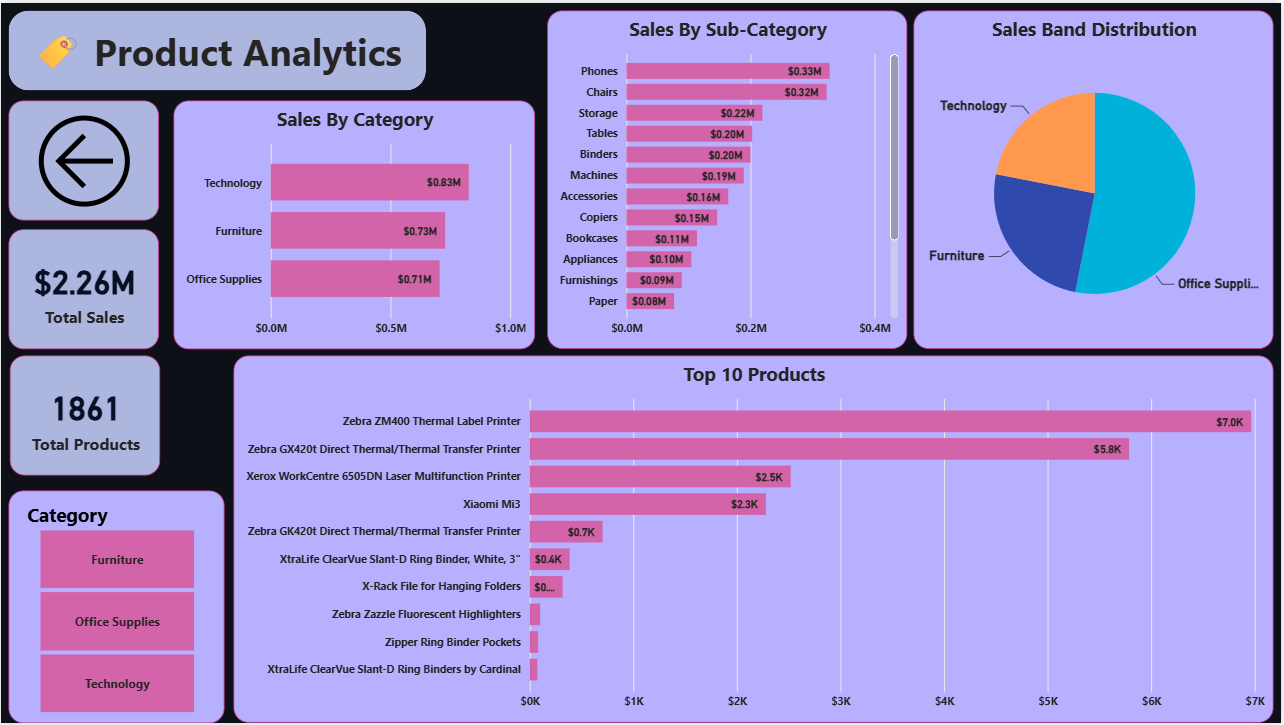

What the dashboard file says about the page in this screenshot:
{"tool":"powerbi","page":{"name":"🏷️ Product Analytics","canvas":[1280,720],"ordinal":3},"visuals":[{"type":"shape","box":[7.5,7.5,417.5,80],"z":0},{"type":"card","fields":{"Values":["_All Measures.Total Sales"]},"box":[7.1,225.7,150,120],"z":1000},{"type":"card","fields":{"Values":["_All Measures.Total Products"]},"box":[8.6,352.9,150,120],"z":2000},{"type":"slicer","fields":{"Values":["train.Category"]},"box":[7.1,487.1,215.7,232.9],"z":3000},{"type":"clusteredBarChart","title":"Sales By Category","fields":{"Y":["_All Measures.Total Sales"],"Category":["train.Category"]},"box":[172.9,97.1,361.4,248.6],"z":4000},{"type":"clusteredBarChart","title":"Sales By Sub-Category","fields":{"Y":["_All Measures.Total Sales"],"Category":["train.Sub-Category"]},"box":[545.7,7.1,360,338.6],"z":5000},{"type":"pieChart","title":"Sales Band Distribution","fields":{"Y":["_All Measures.Total Orders"],"Category":["train.Category"]},"box":[912.9,7.1,360,338.6],"z":6000},{"type":"actionButton","box":[7.1,97.1,150,120],"z":7000},{"type":"clusteredBarChart","title":"Top 10 Products","fields":{"Y":["_All Measures.Total Sales"],"Category":["train.Product Name"]},"box":[232.9,352.9,1040,367.1],"z":8000}]}

Visuals, with their boxes in screenshot pixels (x1, y1, x2, y2), scaled from the page's 1280x720 canvas onto the 1284x725 screenshot:
shape: pyautogui.locateOnScreen(8, 8, 426, 88)
card - _All Measures.Total Sales: pyautogui.locateOnScreen(7, 227, 158, 348)
card - _All Measures.Total Products: pyautogui.locateOnScreen(9, 355, 159, 476)
slicer - train.Category: pyautogui.locateOnScreen(7, 490, 223, 724)
"Sales By Category" clusteredBarChart: pyautogui.locateOnScreen(173, 98, 536, 348)
"Sales By Sub-Category" clusteredBarChart: pyautogui.locateOnScreen(547, 7, 909, 348)
"Sales Band Distribution" pieChart: pyautogui.locateOnScreen(916, 7, 1277, 348)
actionButton: pyautogui.locateOnScreen(7, 98, 158, 219)
"Top 10 Products" clusteredBarChart: pyautogui.locateOnScreen(234, 355, 1277, 724)
